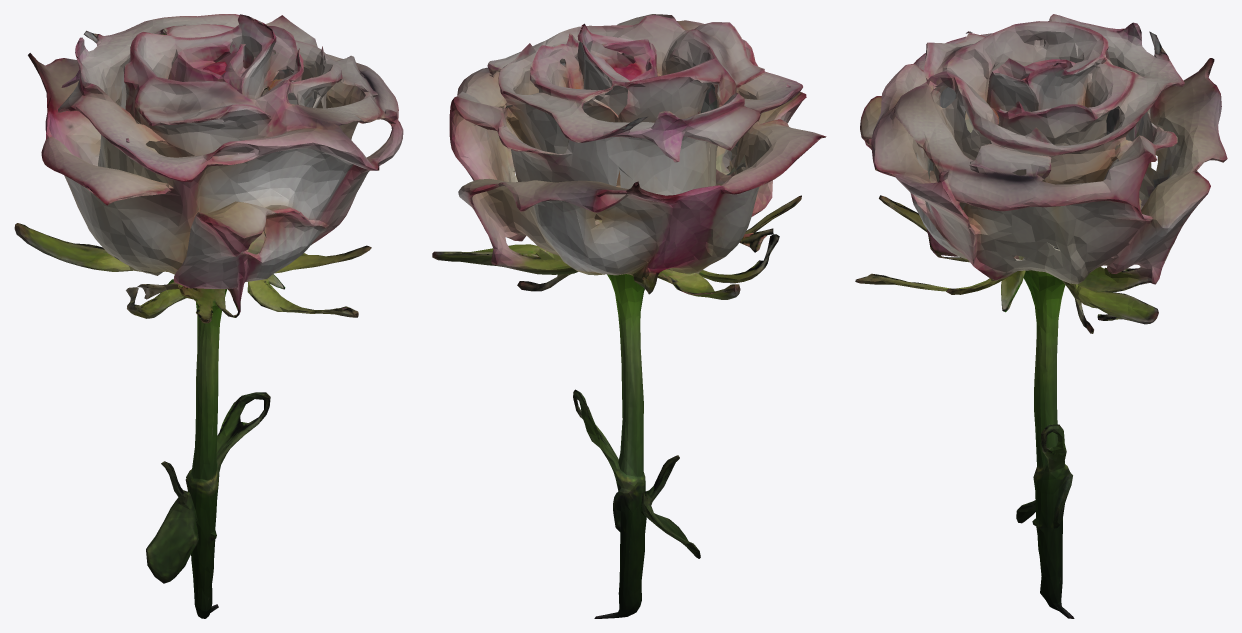
3 renders of one model, left to right at view 1: azimuth 30°, elevation 25°; view 2: azimuth 150°, elevation 25°; view 3: azimuth 270°, elevation 25°, orthographic. The views are drawn at different scales.
Parts seen in each view (by area): view 1: world; view 2: world; view 3: world.
Boxes of the visible parts, box(x1,y1,x2,y2) form: world: box(14, 14, 403, 618); world: box(432, 14, 826, 618); world: box(855, 14, 1227, 618).
Size of the model in its own units: 0.5649 by 0.9671 by 0.5755.
1 material, 1 textured.
